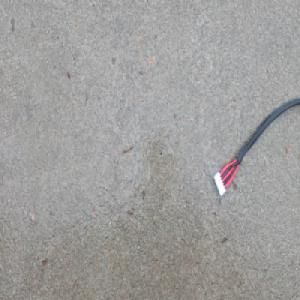Wire: (212, 95, 300, 197)
